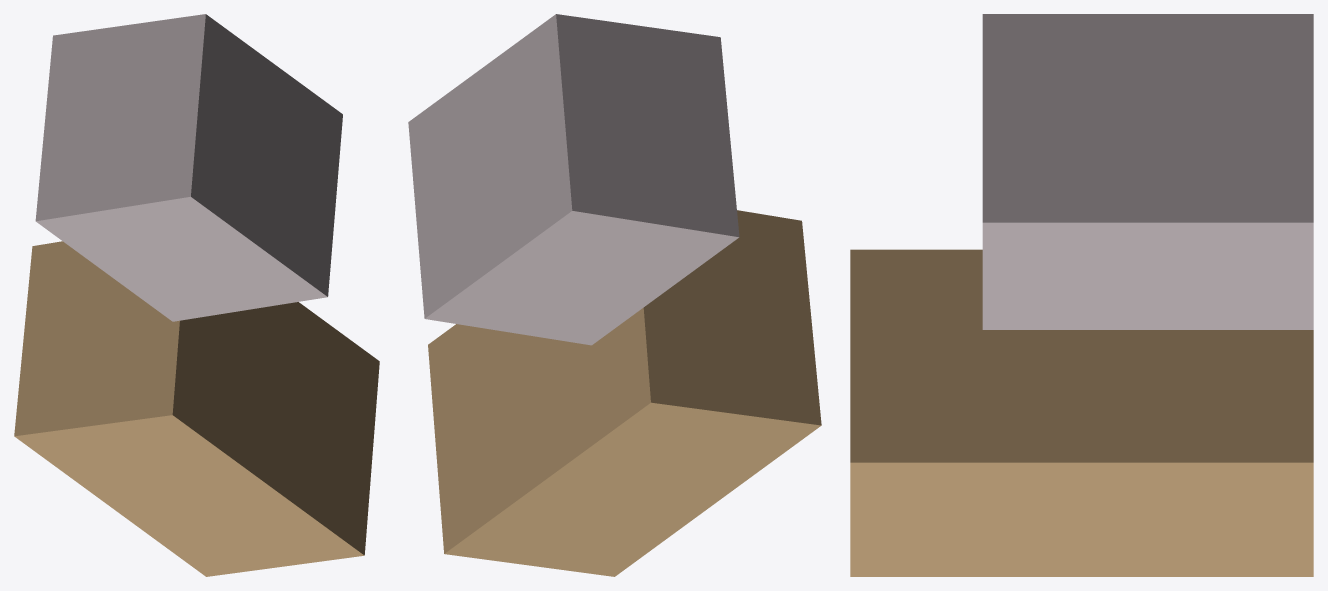
The picture shows the model from 3 angles, left to right: view 1: azimuth 30°, elevation 25°; view 2: azimuth 150°, elevation 25°; view 3: azimuth 270°, elevation 25°; orthographic projection. The views are drawn at different scales.
Parts seen in each view (by area): view 1: 0_0_3_2_0_0_1_0_2_1; view 2: 0_0_3_2_0_0_1_0_2_1; view 3: 0_0_3_2_0_0_1_0_2_1.
Part boxes in pixels (<box>): 0_0_3_2_0_0_1_0_2_1: <box>14,14,379,576</box>; 0_0_3_2_0_0_1_0_2_1: <box>408,14,821,576</box>; 0_0_3_2_0_0_1_0_2_1: <box>850,14,1313,576</box>.
Bounding box in the file's own units: 12.1 × 24.65 × 21.
